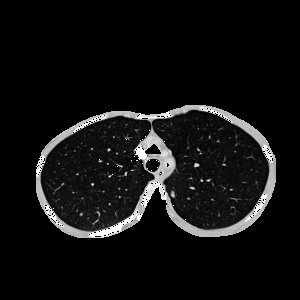PN: (169, 191, 175, 197)
